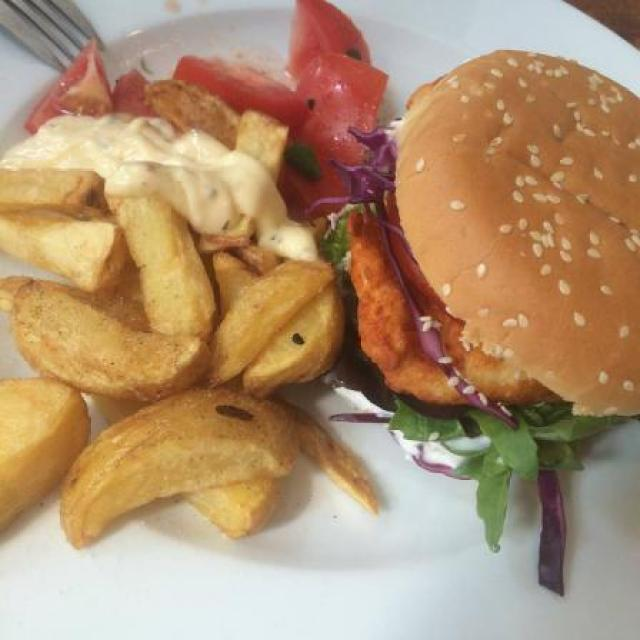Burger: (318, 43, 640, 496)
